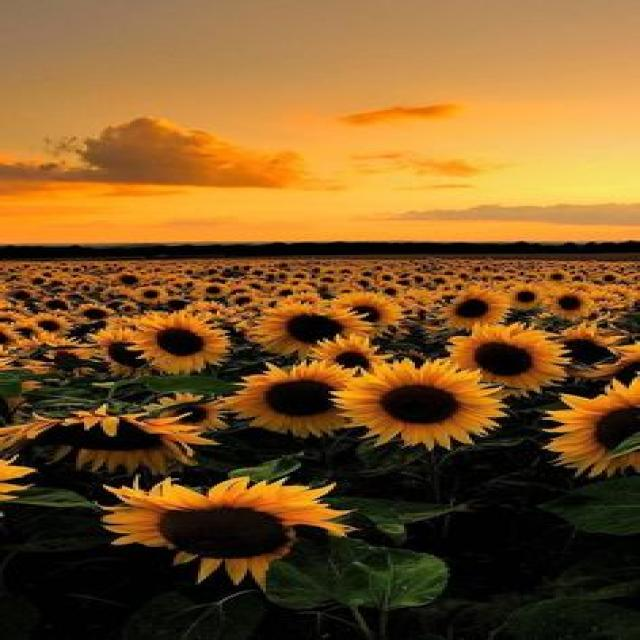sunflower: (103, 468, 355, 592), (313, 354, 509, 444), (14, 389, 214, 476), (221, 362, 381, 444), (526, 370, 640, 480), (256, 295, 395, 365), (113, 308, 248, 375), (446, 324, 568, 392), (432, 282, 516, 337), (544, 284, 612, 330)
